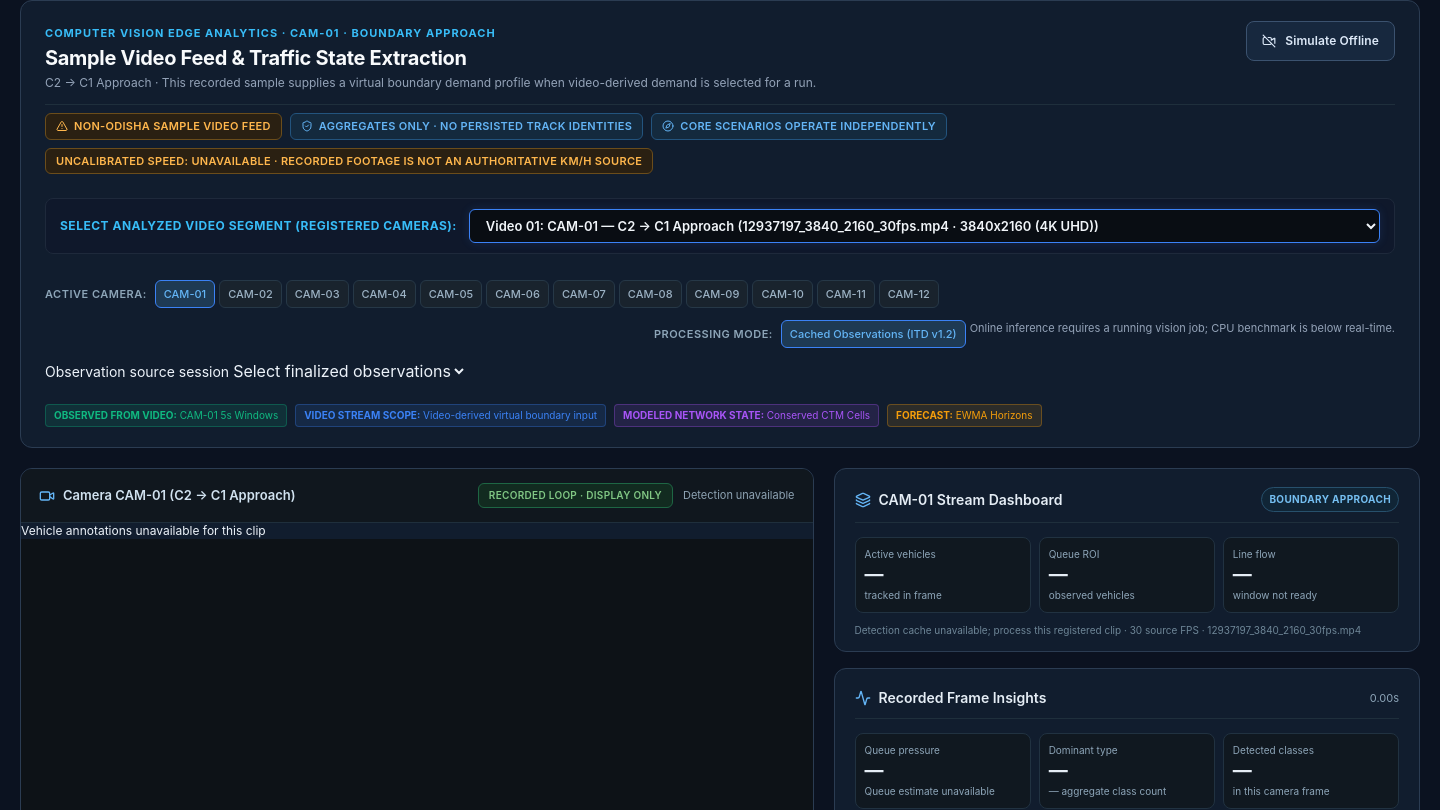
it: T13: Vision & Network UI Integration (PRD §19.3) › renders all 12 camera selectors and switches to the matching stream dashboard
This screenshot has width=1440, height=810.
Check: the button "CAM-01" is shown, box 155,280 -> 215,308
Check: the button "CAM-03" is shown, box 286,280 -> 349,308
Note: Switch to CAM-02
Click the button "CAM-02".
click(250, 294)  # box 219,280 -> 282,308
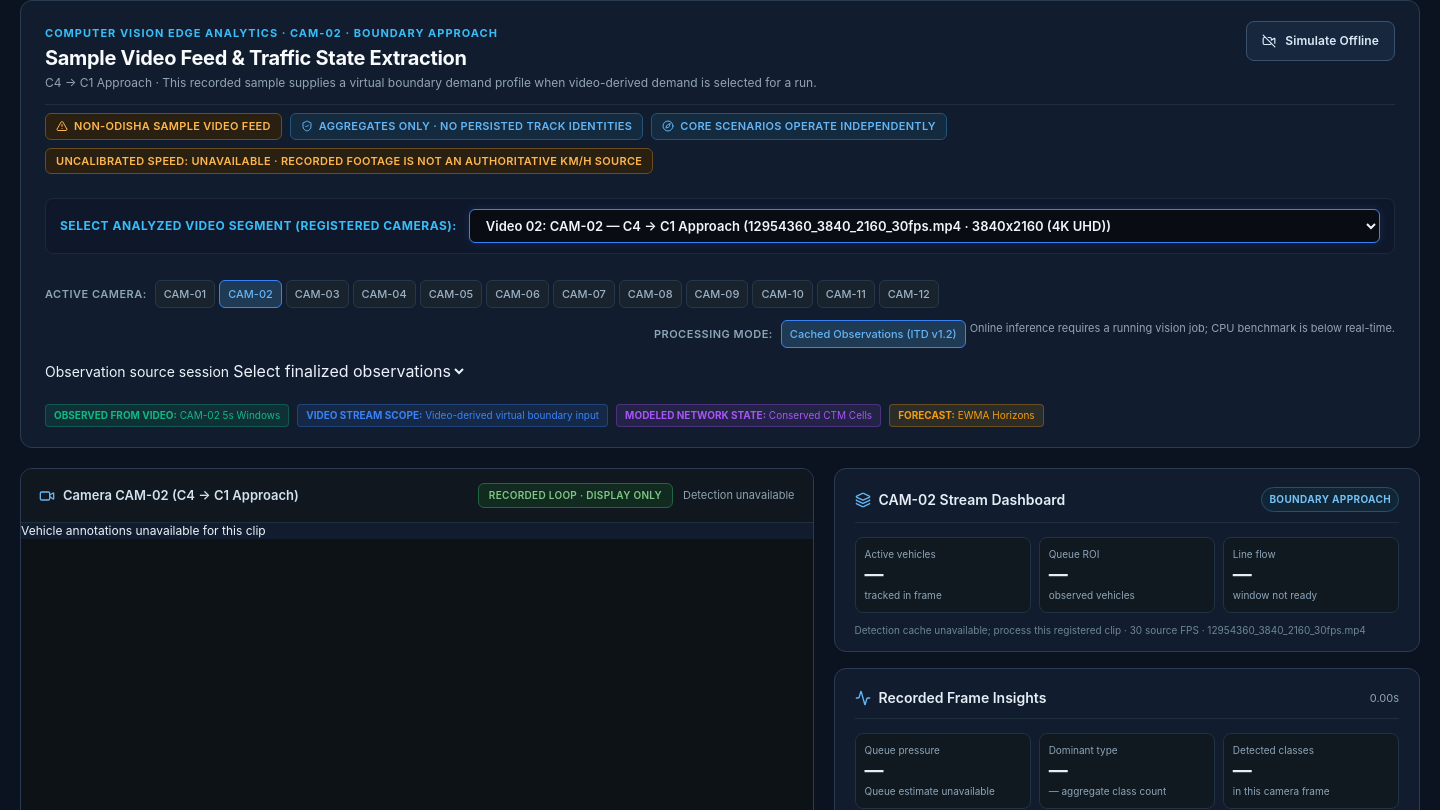
Check: the text "Camera CAM-02 (C4 → C1 Approach)" is shown, box 63,486 -> 299,505
Check: the heading "CAM-02 Stream Dashboard" is shown, box 854,489 -> 1065,510
Note: A stream in the second bank receives its own selected-camera dashboard too.
Click the button "CAM-12".
click(909, 294)  # box 879,280 -> 939,308
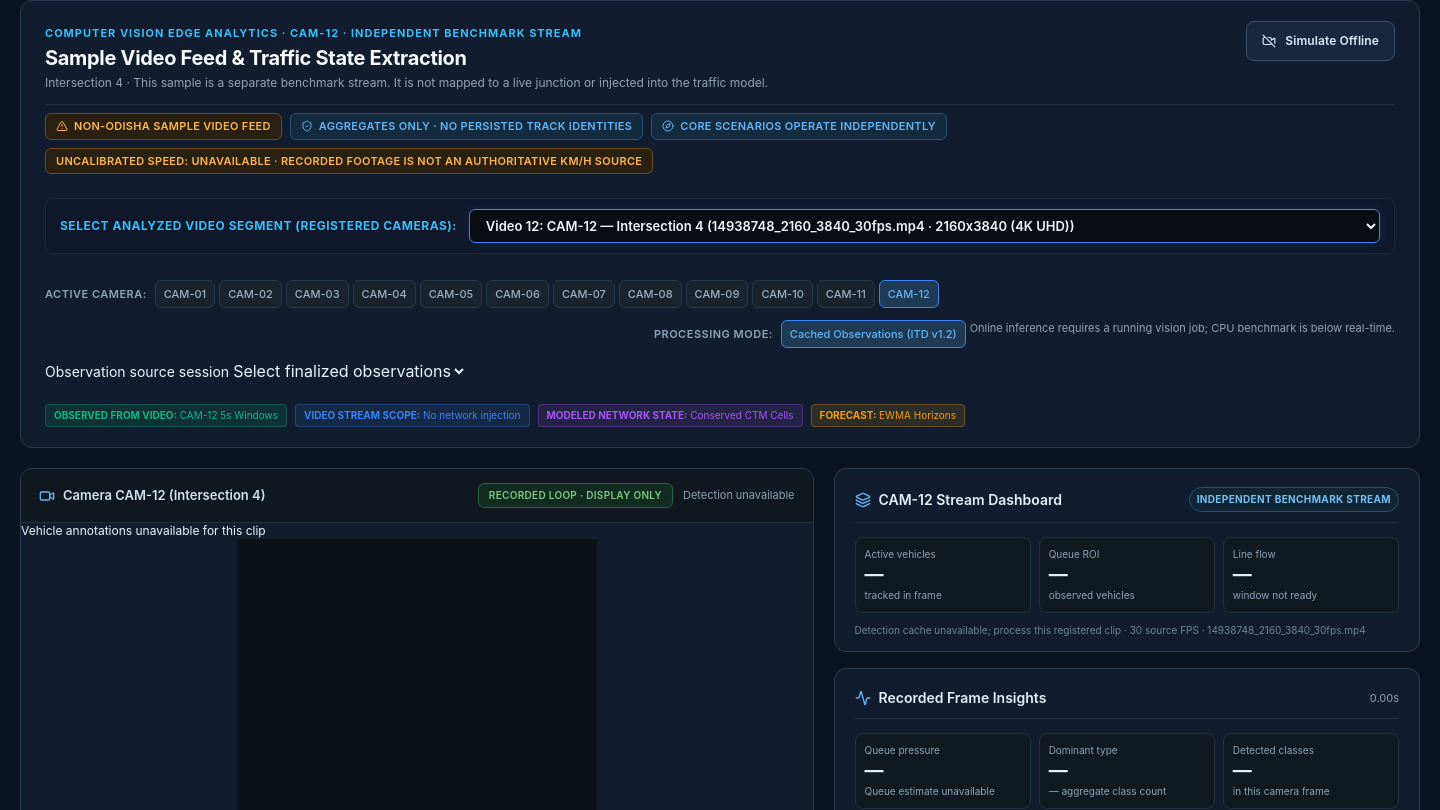
Check: the text "Camera CAM-12 (Intersection 4)" is shown, box 63,486 -> 266,505
Check: the heading "CAM-12 Stream Dashboard" is shown, box 854,489 -> 1062,510
